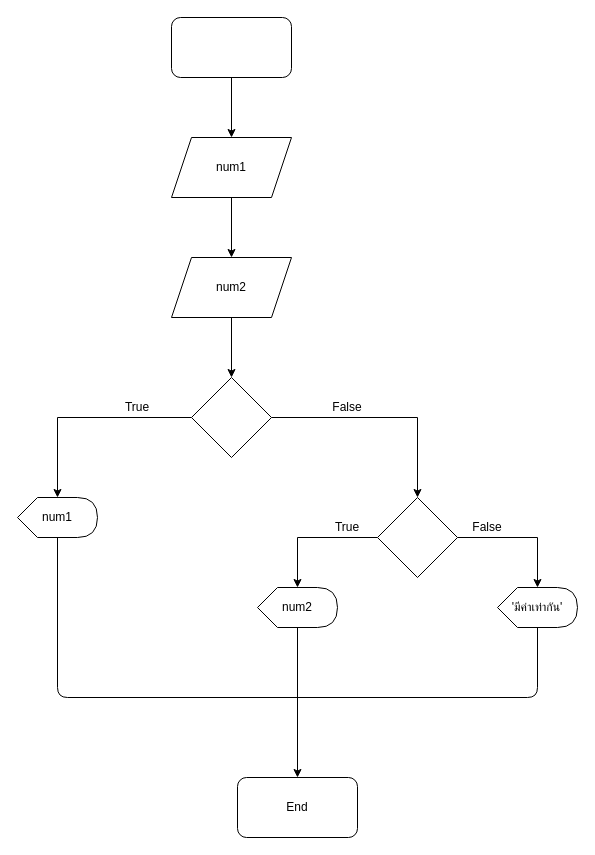
The diagram is 595 pixels wide and 855 high, and some of its shapes have lost their labels. Each missing label, with the centre of its shape:
"num1 > num2" belongs at (231,417).
"num2 > num1" belongs at (417,537).
"start" belongs at (231,47).
